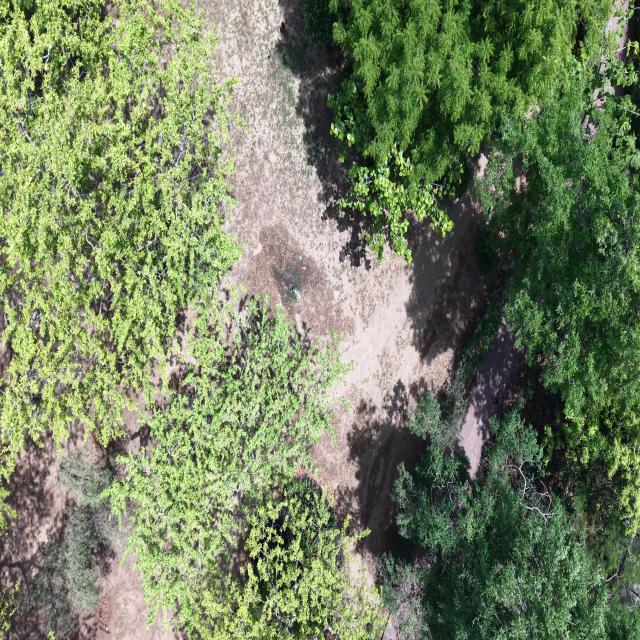DRY_AREA: (199, 0, 485, 578), (200, 0, 484, 579), (204, 0, 484, 575), (69, 536, 182, 639), (459, 319, 524, 477), (460, 320, 524, 477)
VEGETATION_TREE: (0, 0, 639, 639), (0, 0, 382, 638), (379, 43, 639, 638), (0, 0, 239, 480), (475, 5, 639, 597), (377, 292, 639, 639), (110, 300, 377, 639), (477, 59, 639, 533), (328, 0, 611, 261), (379, 412, 639, 639), (334, 0, 597, 182), (218, 477, 384, 639), (19, 451, 119, 637), (407, 290, 502, 448), (341, 146, 462, 262), (59, 452, 118, 611), (596, 5, 639, 169), (19, 538, 77, 636), (376, 555, 429, 639), (589, 523, 639, 606), (63, 505, 102, 610), (407, 377, 466, 445), (58, 451, 113, 510), (303, 0, 333, 44), (605, 607, 639, 639), (0, 583, 19, 632)
